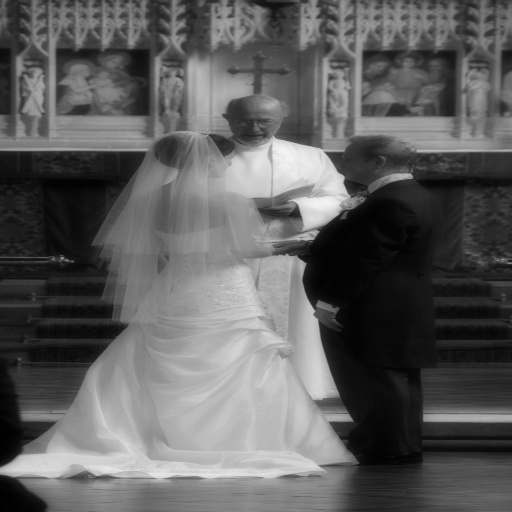hand: (304, 305, 344, 332), (268, 237, 312, 256), (257, 202, 297, 220), (272, 243, 307, 256)
